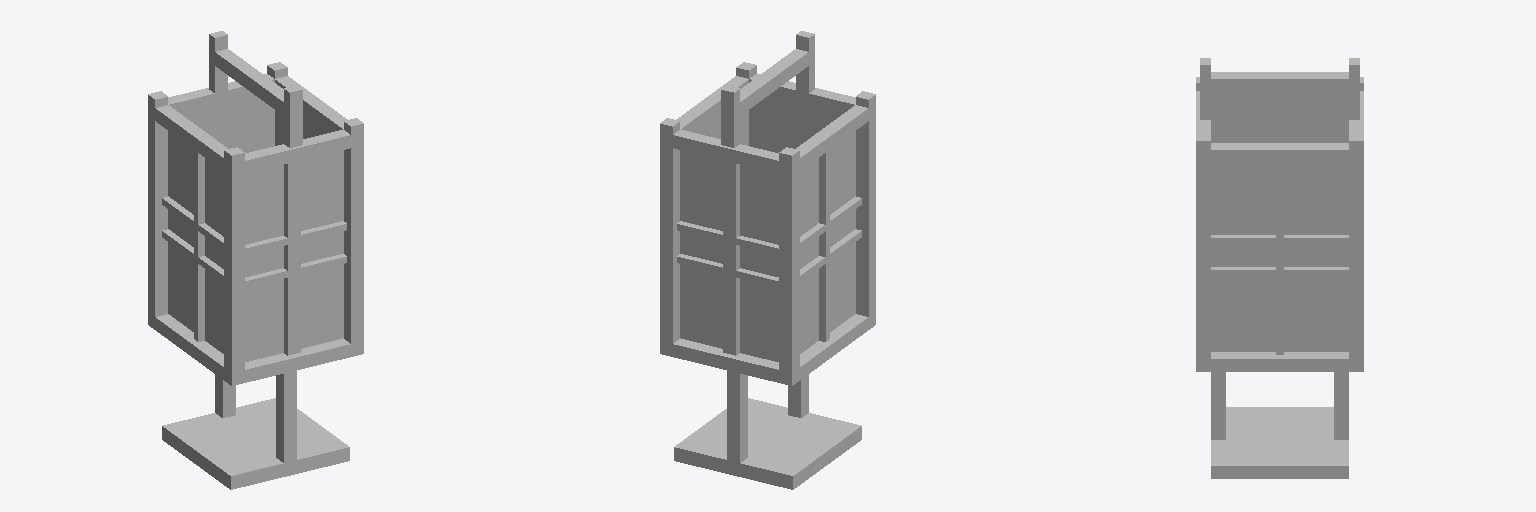
Rendered from andon.obj.
3 views of the same model, side by side, from view 1: azimuth 30°, elevation 25°; view 2: azimuth 150°, elevation 25°; view 3: azimuth 270°, elevation 25° (orthographic).
Parts seen in each view (by area): view 1: andon_Cube.001; view 2: andon_Cube.001; view 3: andon_Cube.001.
Part boxes in pixels (x1,y1,x2,y2): andon_Cube.001: (148,31,363,489); andon_Cube.001: (660,31,875,489); andon_Cube.001: (1196,58,1363,478).
Bounding box in the file's own units: 2.5 × 7 × 2.75.